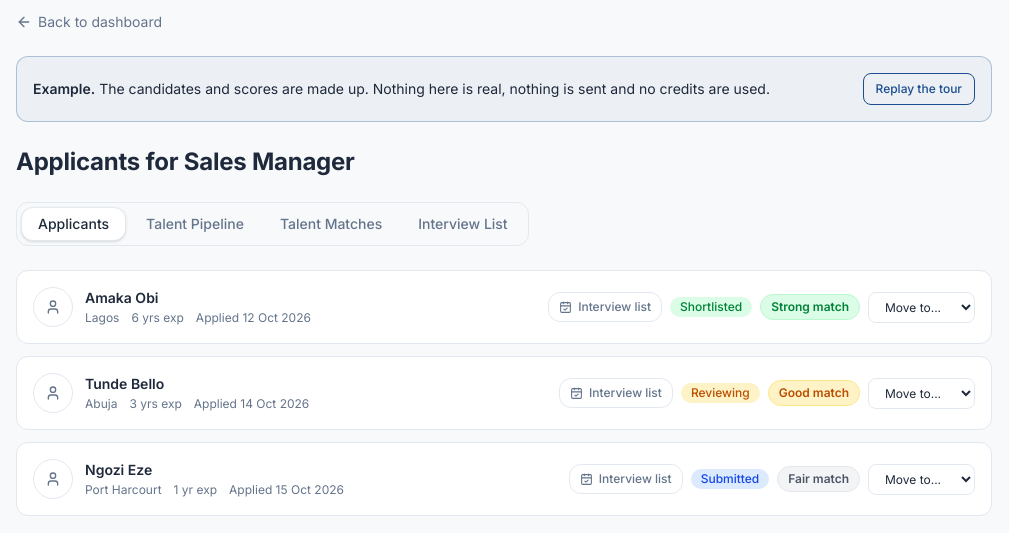
Test: ExampleJobTourPage › the interview list button › puts a person on the interview list and takes them off again
The width and height of the screenshot is (1009, 533).
Click the button with aria-label "Add to interview list".
click(605, 307)  # box [548,292,662,322]
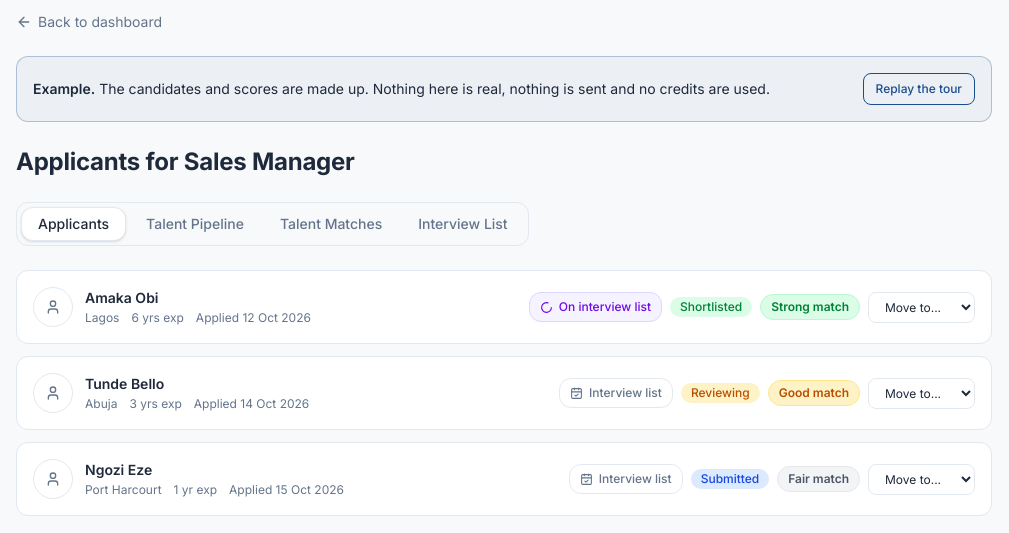
Now the button with aria-label "Remove from interview list" reads "On interview list", box [529,292,662,322]
Click the tab "Interview List".
click(463, 224)  # box [402,207,524,241]
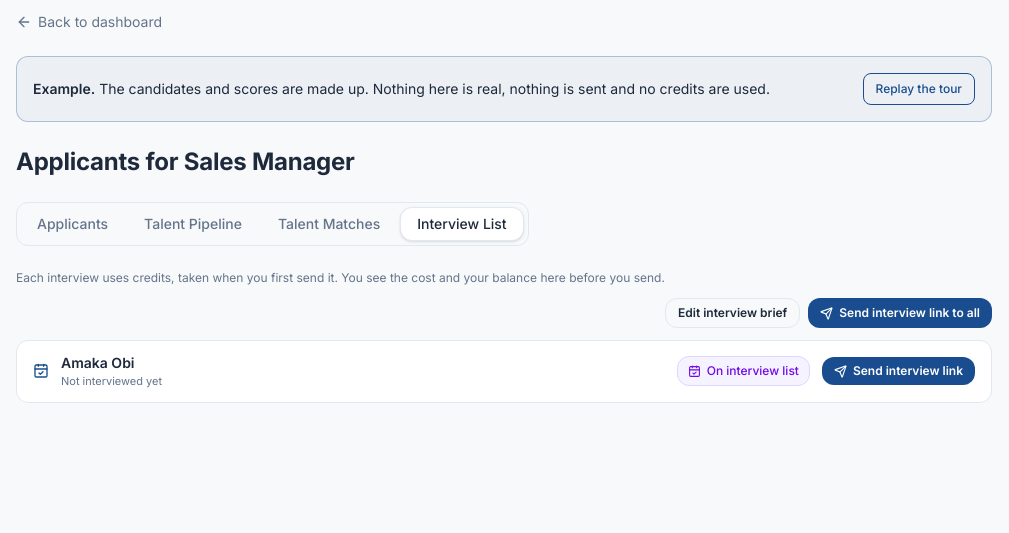
Expected: the text "Amaka Obi" is shown, [61,354,134,371]
Click the button with aria-label "Remove from interview list".
click(743, 371)  # box [677,356,810,386]
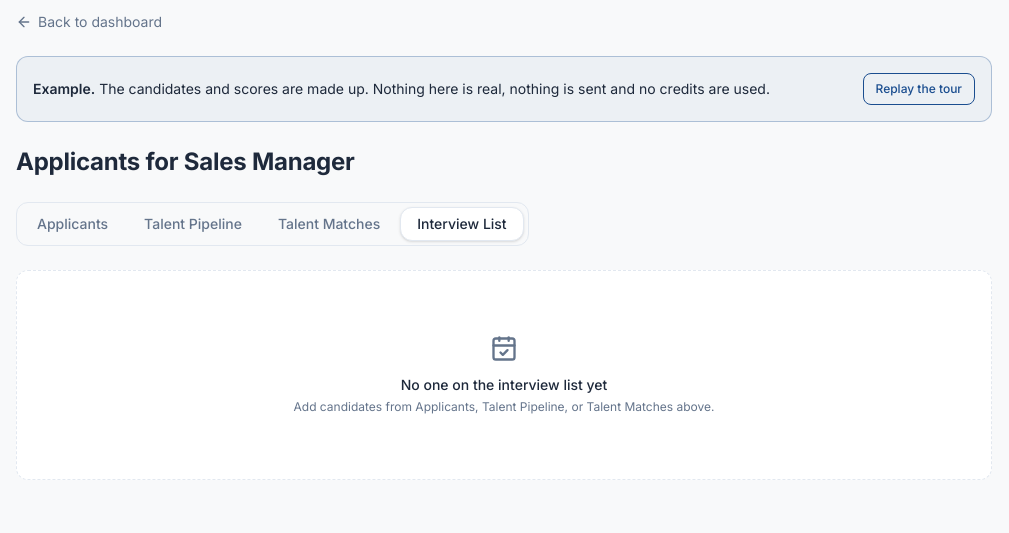
Now the text "No one on the interview list yet" is shown, box [401,376,607,393]
